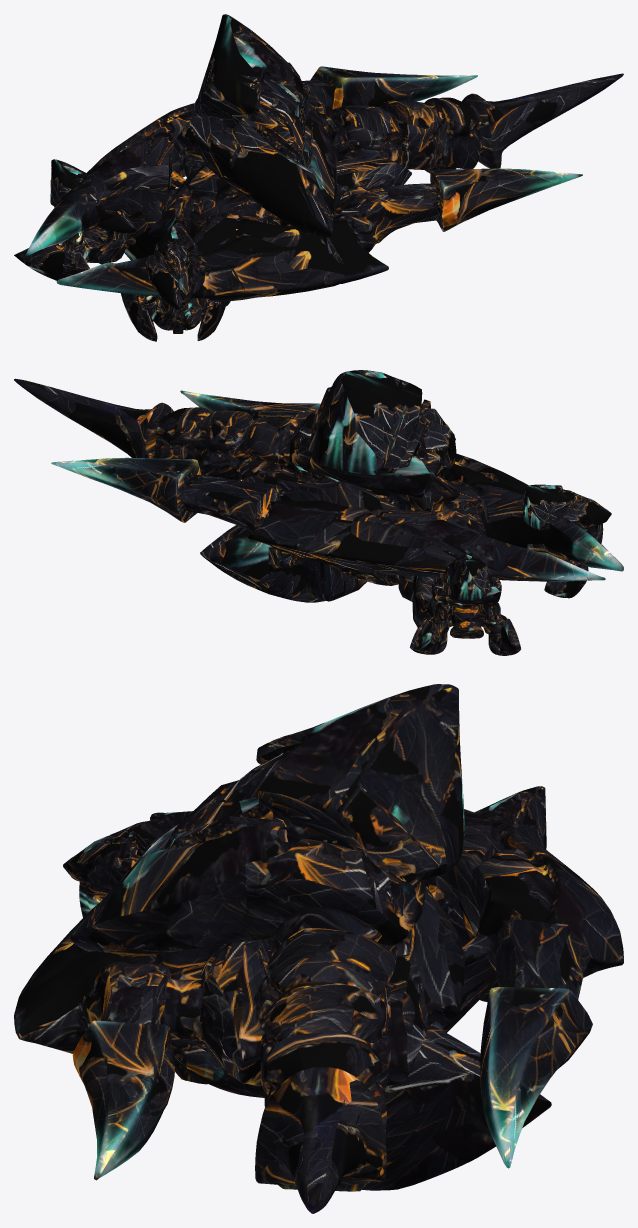
The model's file is shardrunner_kitbash_runner_swarm_v01_prepared.fbx.
3 views of the same model, one above another, from view 1: azimuth 30°, elevation 25°; view 2: azimuth 150°, elevation 25°; view 3: azimuth 270°, elevation 25° (orthographic). The views are drawn at different scales.
Visible parts, largest first — view 1: LTW_ShardRunner_Kitbash; view 2: LTW_ShardRunner_Kitbash; view 3: LTW_ShardRunner_Kitbash.
Part boxes in pixels (x1,y1,x2,y2): LTW_ShardRunner_Kitbash: (14, 14, 623, 341); LTW_ShardRunner_Kitbash: (14, 370, 623, 655); LTW_ShardRunner_Kitbash: (14, 684, 623, 1213).
Bounding box in the file's own units: 90 × 37.28 × 45.2.
